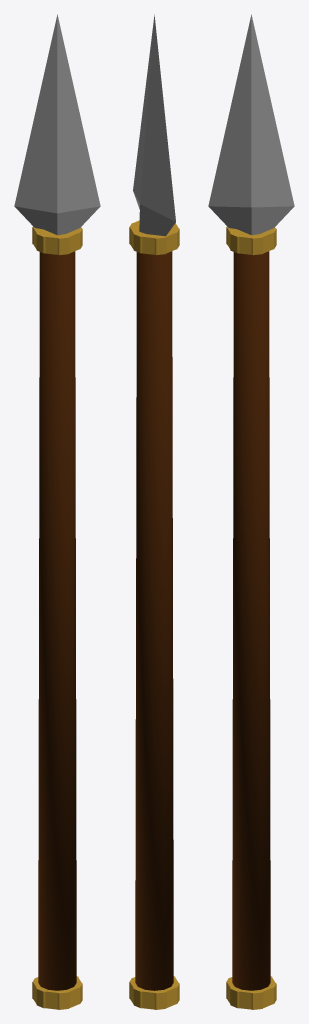
Rendered from Spear_NoCollision.fbx.
3 views of the same model, side by side, from view 1: azimuth 90°, elevation 25°; view 2: azimuth 210°, elevation 25°; view 3: azimuth 270°, elevation 25° (orthographic).
Parts seen in each view (by area): view 1: Spear 2, Spear 1, Spear 3; view 2: Spear 2, Spear 1, Spear 3; view 3: Spear 2, Spear 1, Spear 3.
Boxes of the visible parts, <box> form: Spear 2: <box>38,251,76,990</box>; Spear 1: <box>14,14,100,235</box>; Spear 3: <box>32,226,82,1009</box>; Spear 2: <box>135,251,173,990</box>; Spear 1: <box>133,14,175,236</box>; Spear 3: <box>129,220,179,1009</box>; Spear 2: <box>232,251,270,990</box>; Spear 1: <box>208,14,294,235</box>; Spear 3: <box>226,226,276,1009</box>.
Bounding box in the file's own units: 0.0917 × 0.1573 × 1.98.
